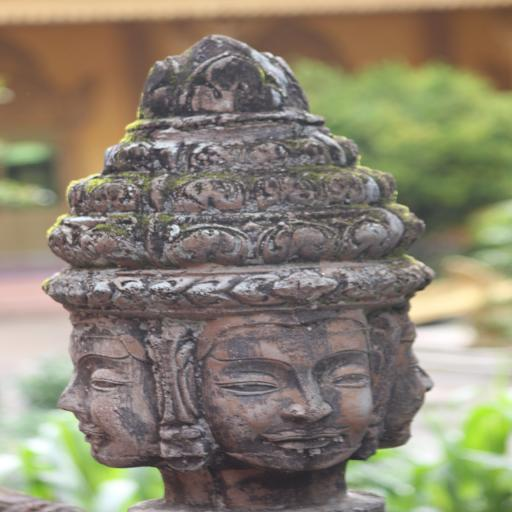than: (52, 32, 435, 512)
